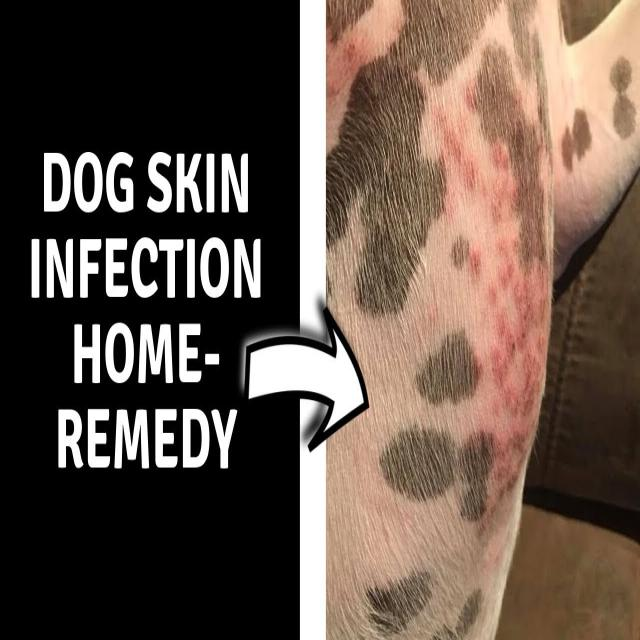fungal infection: (428, 87, 522, 319), (473, 240, 548, 389), (476, 379, 516, 562), (325, 32, 368, 102), (508, 369, 534, 465)
